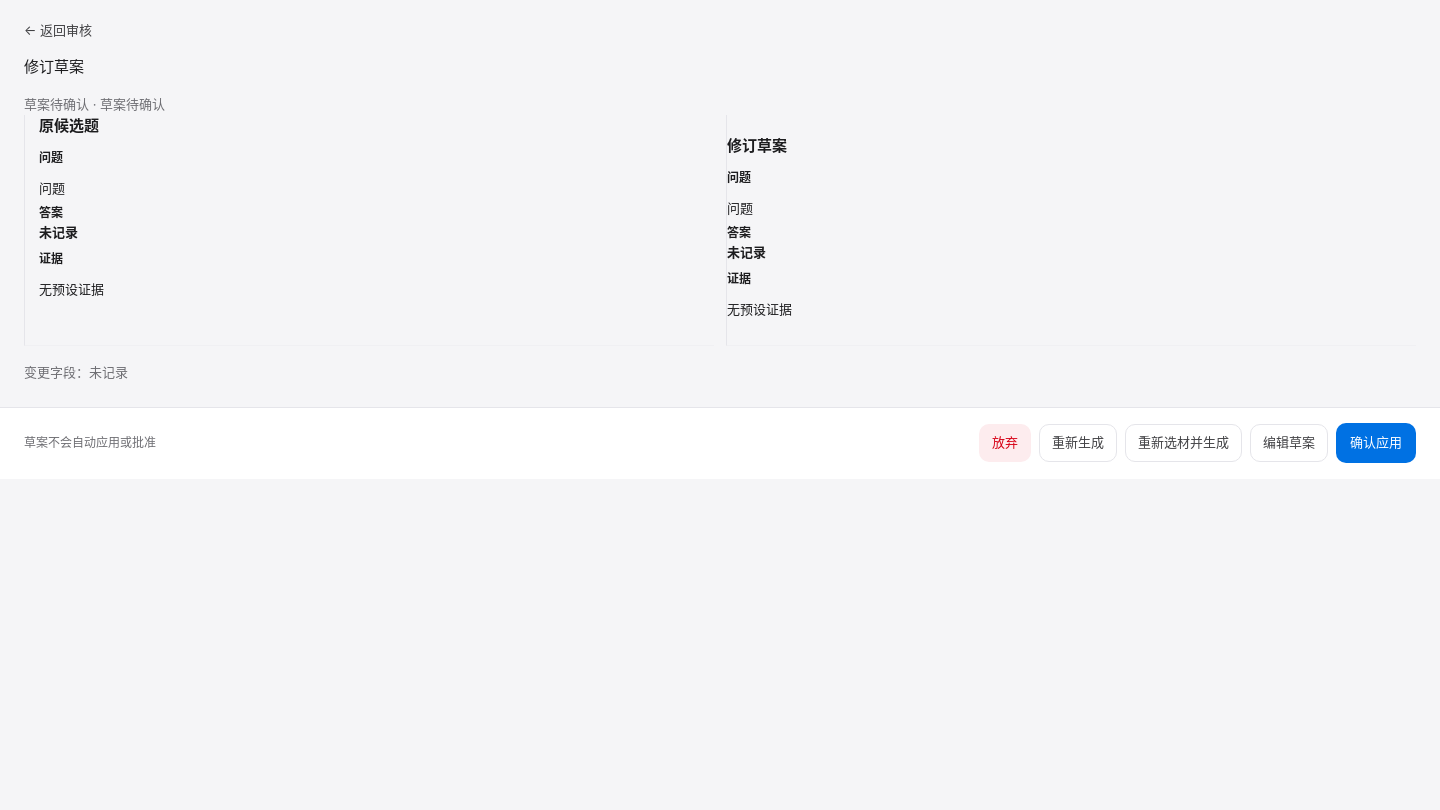
Test: confirms revision operation reselect without sending on cancel
The image size is (1440, 810).
Click the button "重新选材并生成" at (1184, 443), box [1125,424,1242,462]
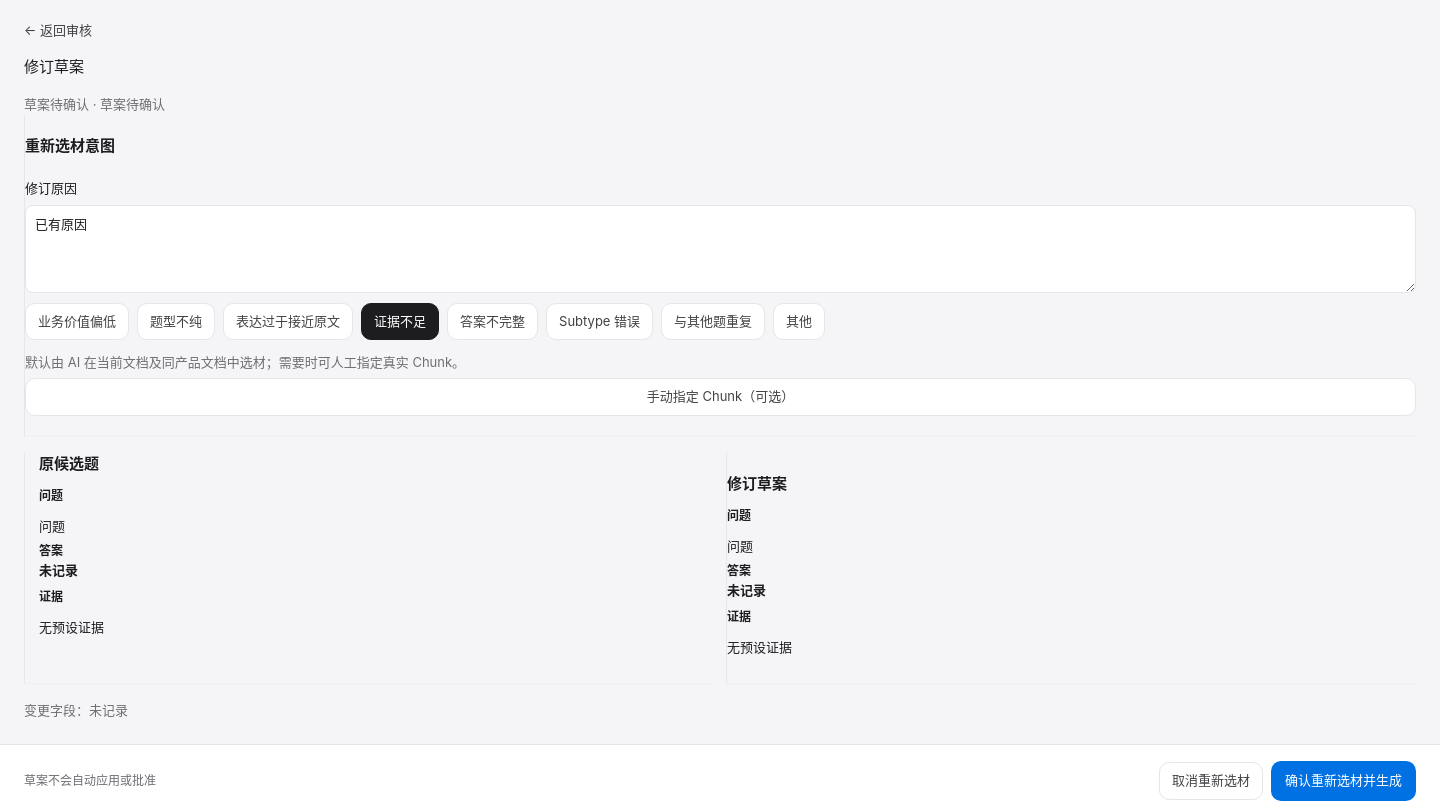
Click the button "确认重新选材并生成" at (1344, 781), box [1271,761,1416,801]
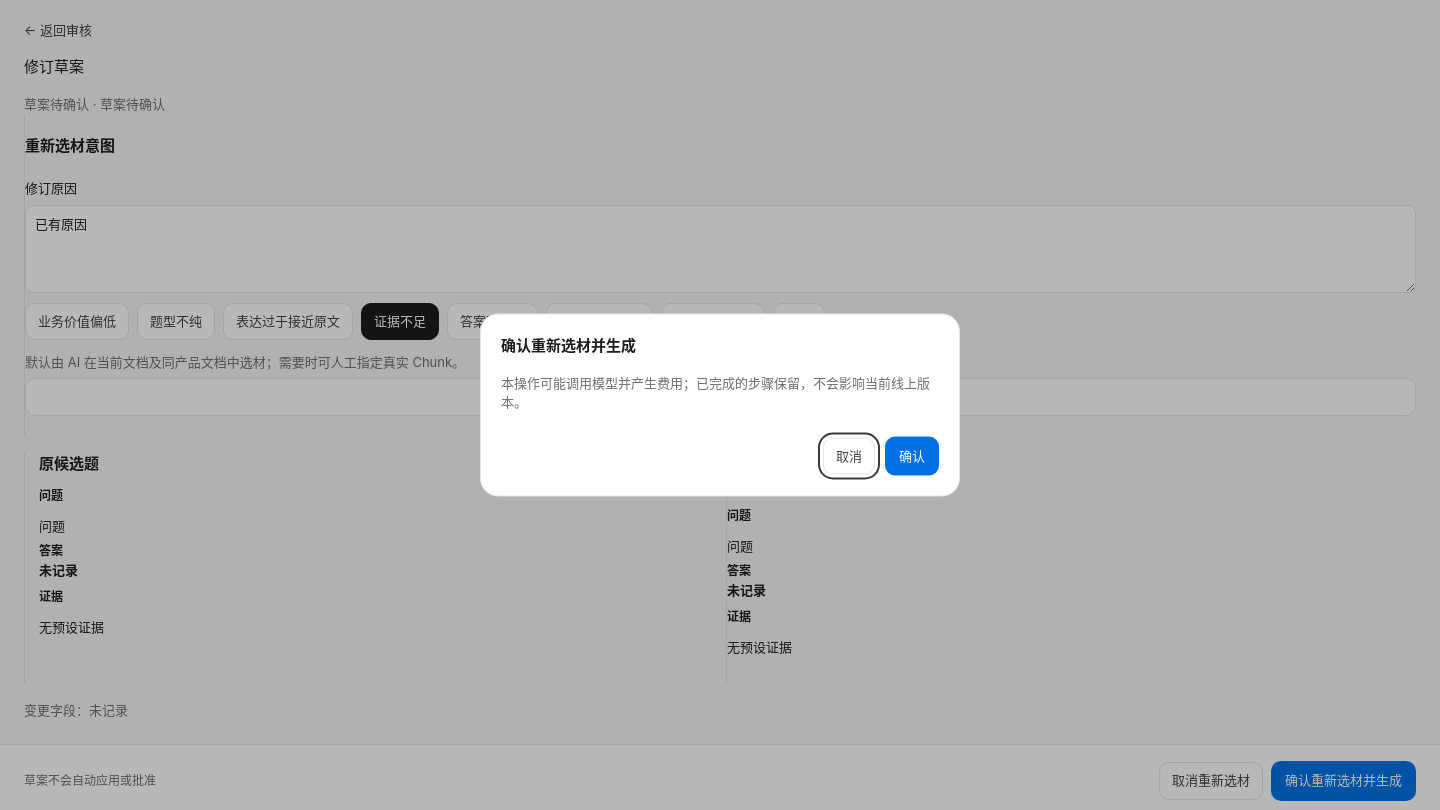
Expected: the dialog with class "confirm-dialog" is shown, [480,314,960,496]
Expected: the button "取消" is shown
Click the button "取消" at (849, 456), box [823,437,875,474]
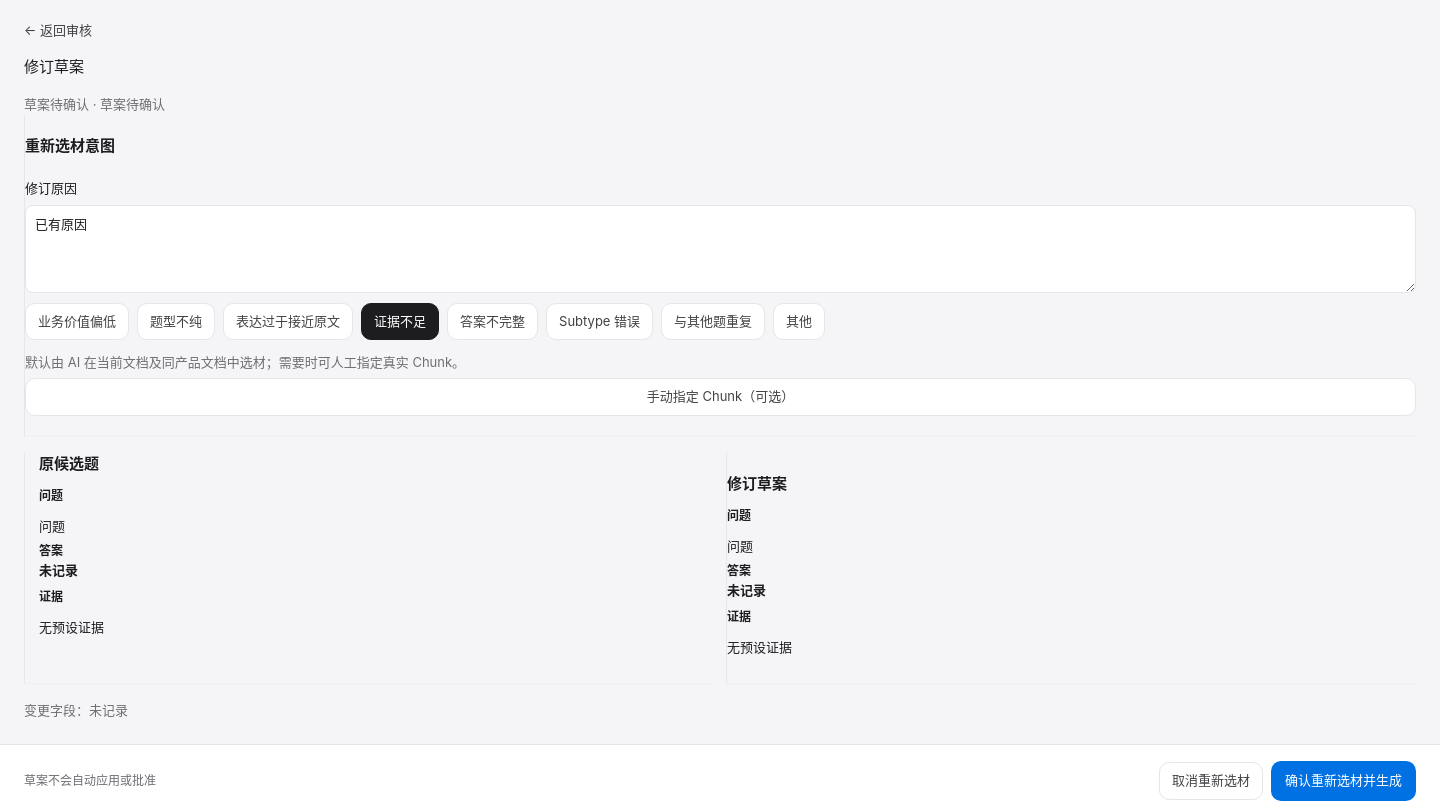
Expected: the dialog with class "confirm-dialog" is gone
